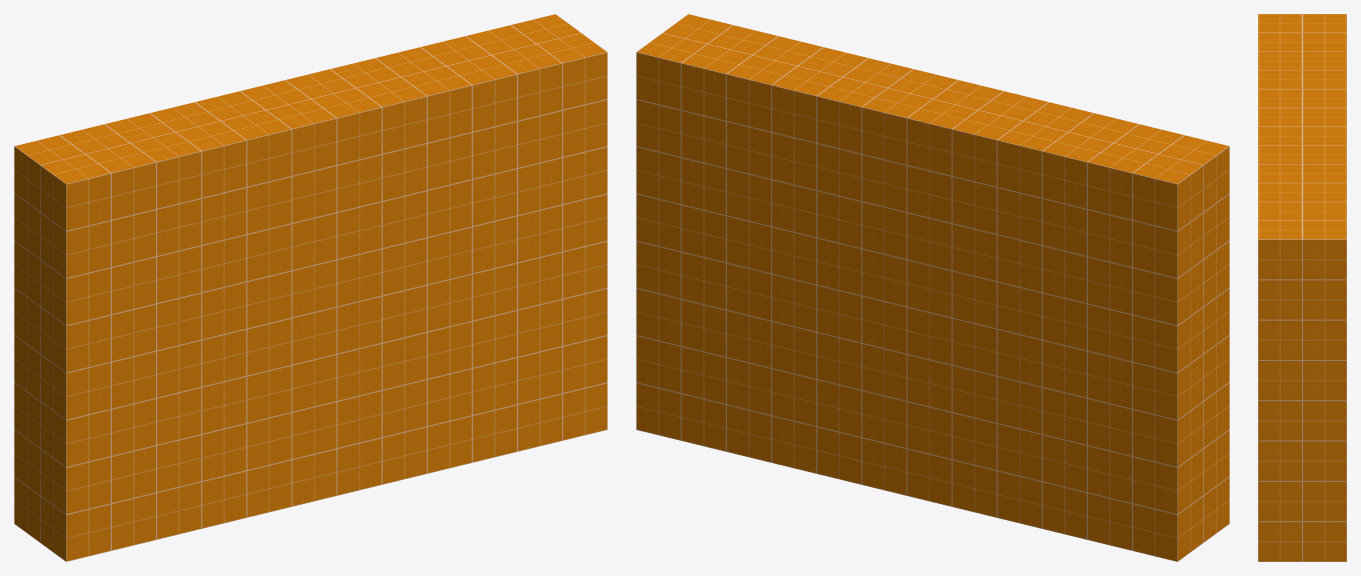
File: Block_12x2x8.obj
3 renders of one model, left to right at view 1: azimuth 30°, elevation 25°; view 2: azimuth 150°, elevation 25°; view 3: azimuth 270°, elevation 25°, orthographic. The views are drawn at different scales.
Visible parts, largest first — view 1: Block_12x2x8_Cube.243; view 2: Block_12x2x8_Cube.243; view 3: Block_12x2x8_Cube.243.
Boxes of the visible parts, <box> form: Block_12x2x8_Cube.243: <box>14,14,607,561</box>; Block_12x2x8_Cube.243: <box>636,14,1229,561</box>; Block_12x2x8_Cube.243: <box>1258,14,1346,561</box>.
Bounding box in the file's own units: 12 × 8 × 2.
1 material, 1 textured.
